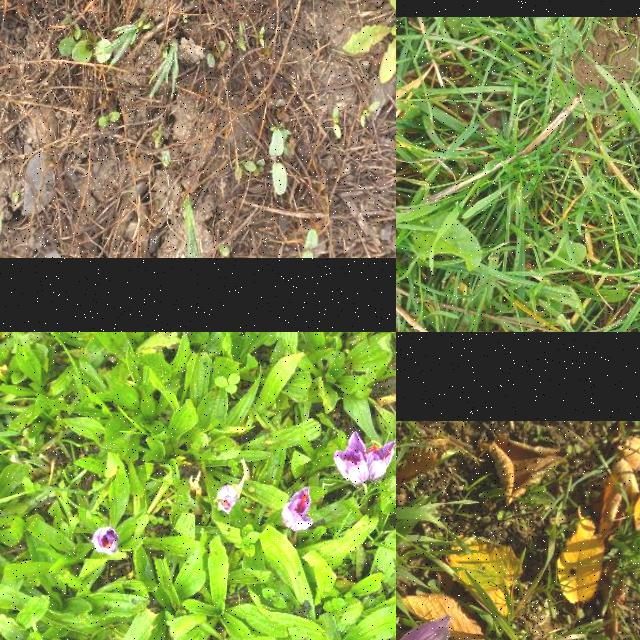flower: (334, 432, 378, 486), (282, 487, 314, 531), (367, 440, 396, 481), (92, 528, 118, 556), (216, 486, 240, 514)
